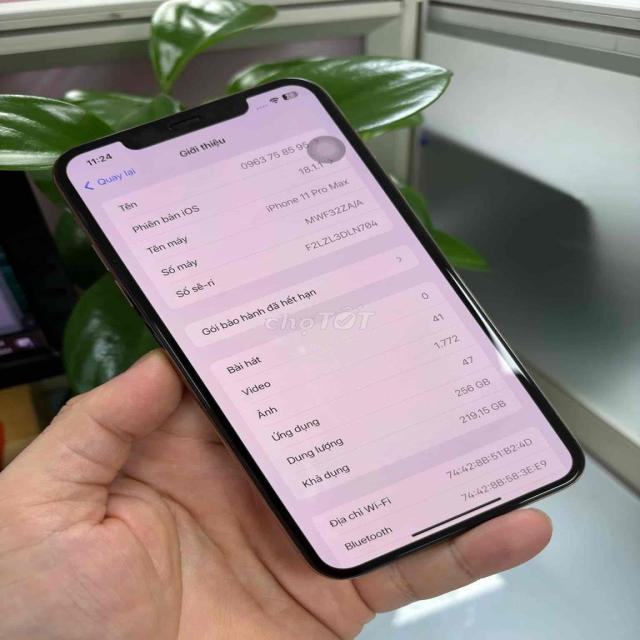gen_11: (58, 70, 591, 583)
